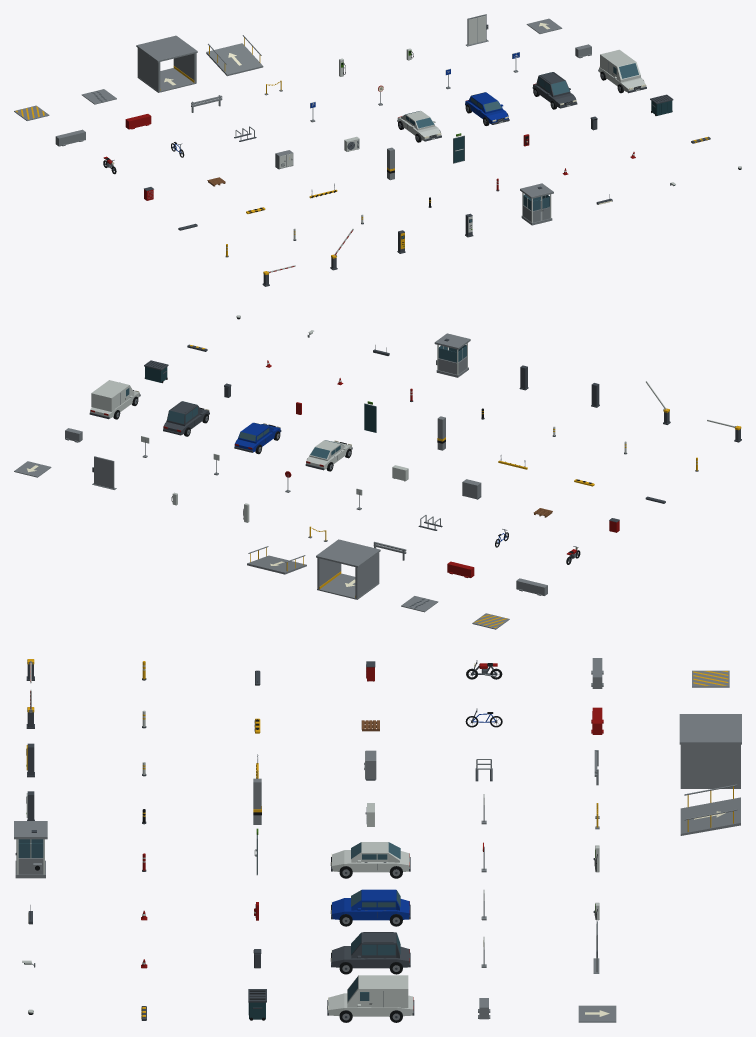
The model's file is ParkingKit_All.fbx.
The picture shows the model from 3 angles, top to bottom: view 1: azimuth 30°, elevation 25°; view 2: azimuth 150°, elevation 25°; view 3: azimuth 270°, elevation 25°; orthographic projection. The views are drawn at different scales.
Parts seen in each view (by area): view 1: ParkingEntryTunnel, ServiceVan, ParkingRampModule, SecurityBooth, SUVGrey, HatchbackBlue, SedanWhite, ServiceElevatorFront; view 2: ParkingEntryTunnel, ServiceVan, SecurityBooth, SUVGrey, HatchbackBlue, SedanWhite, ParkingRampModule, ServiceElevatorFront; view 3: ParkingEntryTunnel, ServiceVan, SUVGrey, HatchbackBlue, SedanWhite, ParkingRampModule, SecurityBooth, RoadArrowTile, YellowHatchTile.
Boxes of the visible parts, bbox=[...] form: ParkingEntryTunnel: bbox=[136, 35, 197, 92]; ServiceVan: bbox=[598, 49, 646, 93]; ParkingRampModule: bbox=[206, 35, 263, 76]; SecurityBooth: bbox=[520, 183, 553, 225]; SUVGrey: bbox=[532, 72, 577, 109]; HatchbackBlue: bbox=[465, 92, 509, 125]; SedanWhite: bbox=[397, 111, 441, 142]; ServiceElevatorFront: bbox=[466, 14, 488, 46]; ParkingEntryTunnel: bbox=[316, 539, 380, 599]; ServiceVan: bbox=[89, 380, 140, 419]; SecurityBooth: bbox=[434, 333, 470, 377]; SUVGrey: bbox=[163, 401, 209, 436]; HatchbackBlue: bbox=[234, 422, 281, 454]; SedanWhite: bbox=[305, 440, 352, 471]; ParkingRampModule: bbox=[247, 546, 306, 574]; ServiceElevatorFront: bbox=[92, 456, 116, 489]; ParkingEntryTunnel: bbox=[679, 714, 741, 788]; ServiceVan: bbox=[327, 975, 414, 1022]; SUVGrey: bbox=[330, 932, 410, 974]; HatchbackBlue: bbox=[330, 889, 410, 926]; SedanWhite: bbox=[330, 842, 410, 878]; ParkingRampModule: bbox=[680, 784, 740, 835]; SecurityBooth: bbox=[14, 821, 47, 878]; RoadArrowTile: bbox=[578, 1005, 616, 1022]; YellowHatchTile: bbox=[692, 670, 729, 687].
Bounding box in the file's own units: 4427 × 301 × 3855.
Materials: 1 (1 with a texture image).
